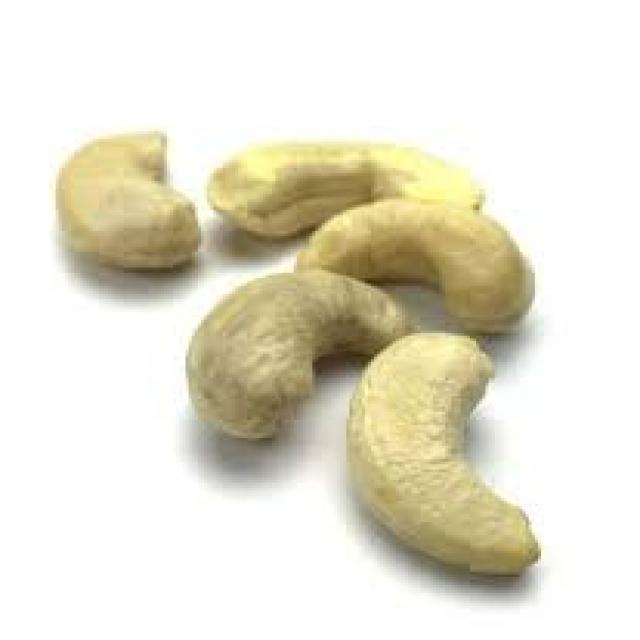Cashew: (342, 343, 577, 593), (154, 279, 346, 424), (306, 194, 584, 291), (47, 117, 204, 277), (224, 108, 501, 192)
